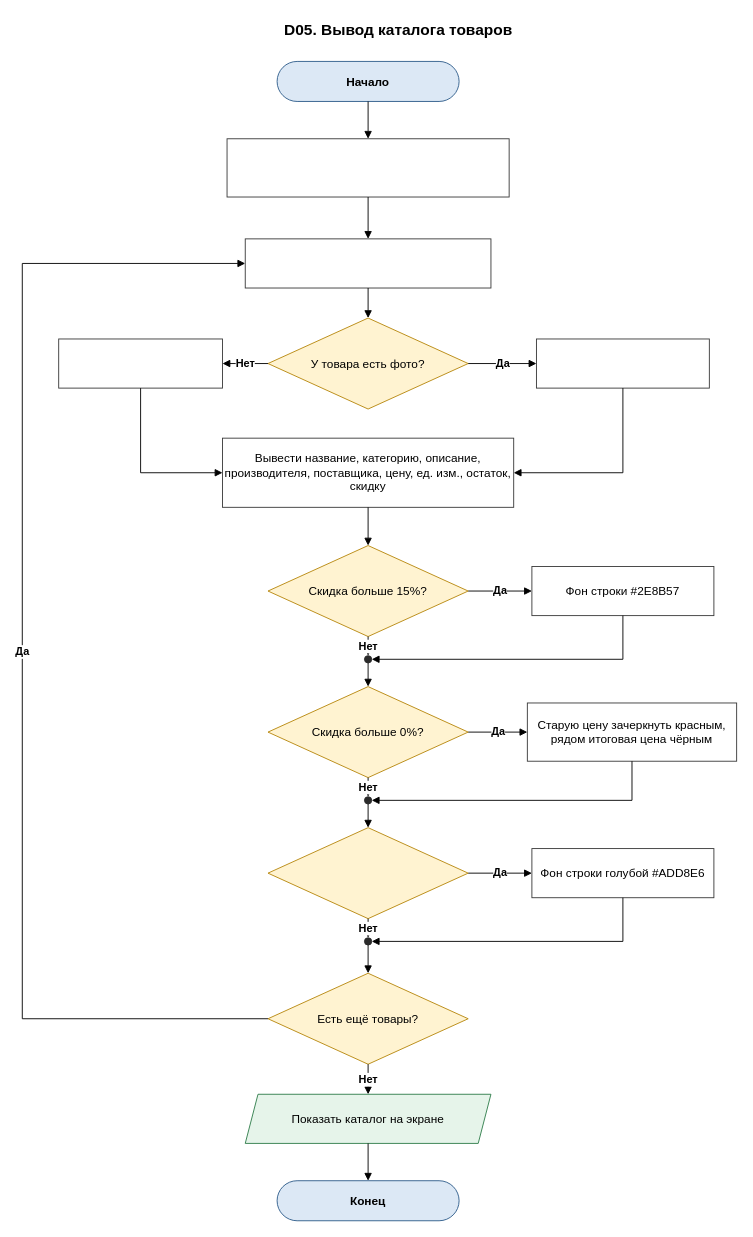
Image size: 753x1237. Some labels were removed from this diagram. Here are the shapes that lost their labels. From the top down, the centre of each, then its label:
At [367,167]: "Запросить товары из БД с категорией, производителем и поставщиком".
At [367,263]: "Взять очередной товар".
At [140,363]: "Показать заглушку picture.png".
At [622,363]: "Показать фото товара".
At [367,873]: "Остаток на складе = 0?".
